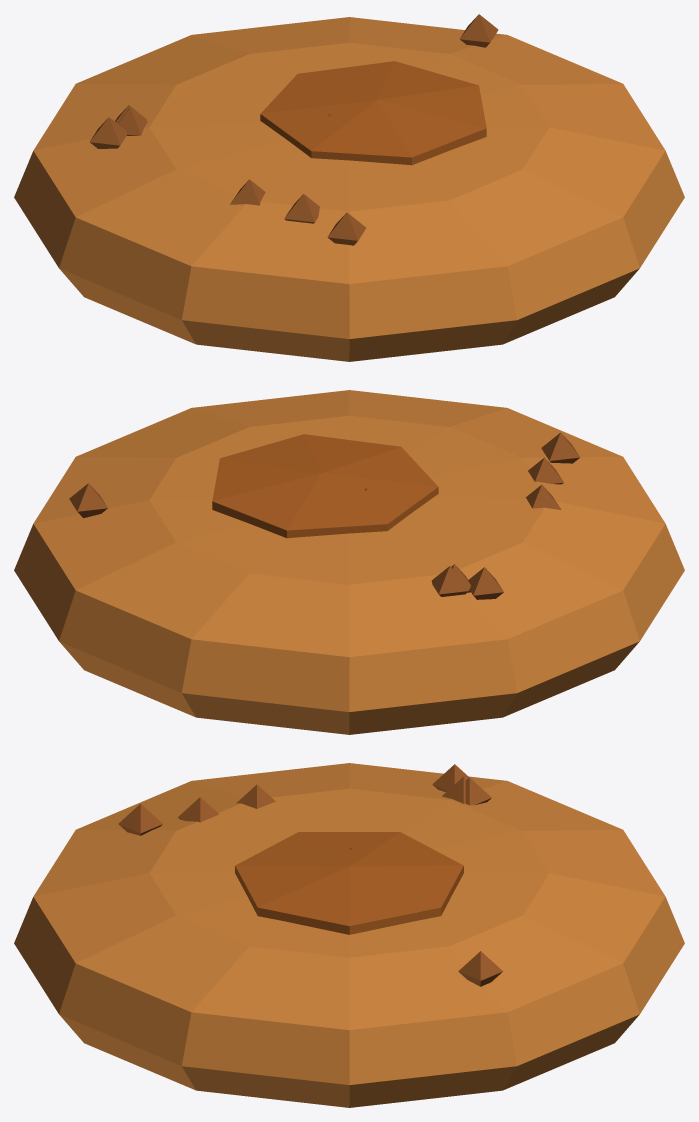
Rendered from Food_Hotteok.obj.
3 renders of one model, top to bottom at view 1: azimuth 30°, elevation 25°; view 2: azimuth 150°, elevation 25°; view 3: azimuth 270°, elevation 25°, orthographic.
Bounding box in the file's own units: 2.08 × 0.43 × 2.08.
